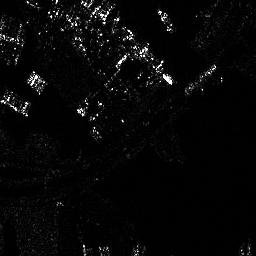ship: (185, 62, 219, 93)
